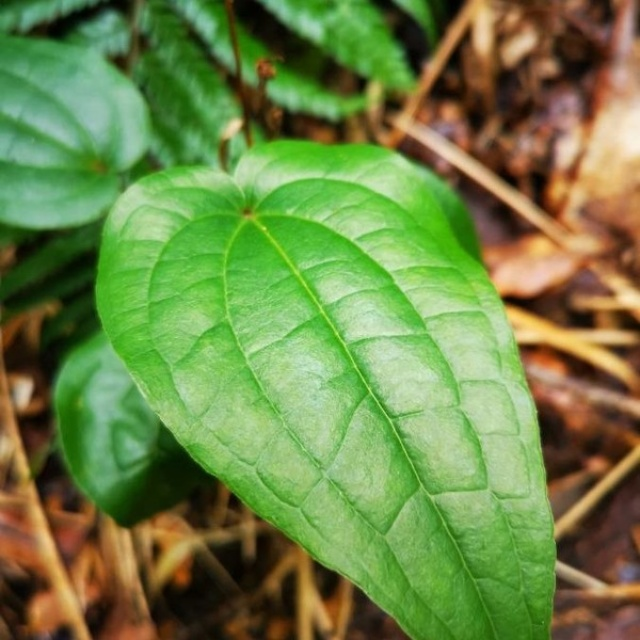obstacle: (41, 27, 561, 619)
